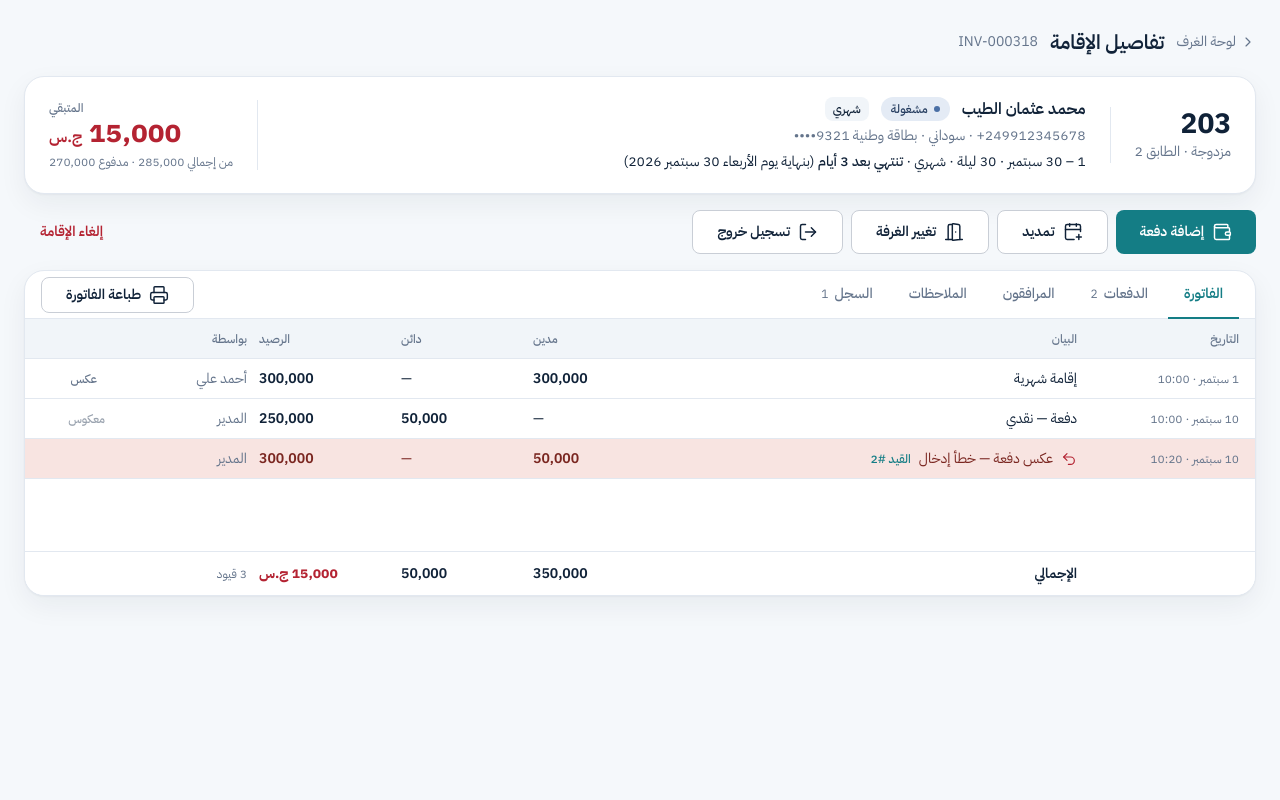
Scenario: leaving early shows the nights used at the price paid and the refund
Click the button "تسجيل خروج" at (768, 232), box [692,210,843,254]
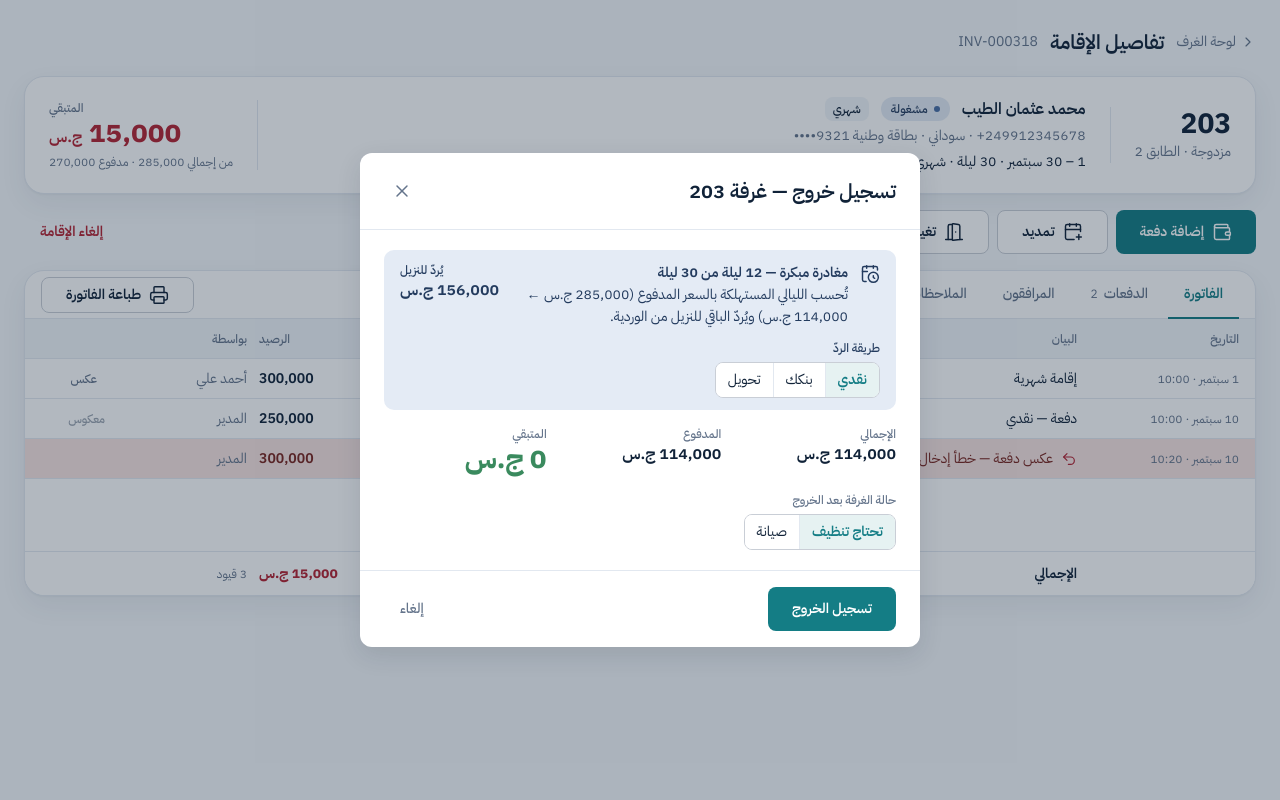
Now the text "مغادرة مبكرة — 12 ليلة من 30 ليلة" is shown, box [657,262,848,283]
Now the text "156,000 ج.س" is shown, box [400,278,499,302]
Now the button "تسجيل الخروج" is enabled, box [768,587,896,631]
